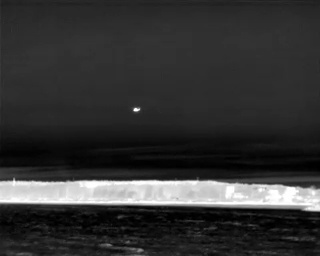HELICOPTER: (129, 103, 144, 118)
